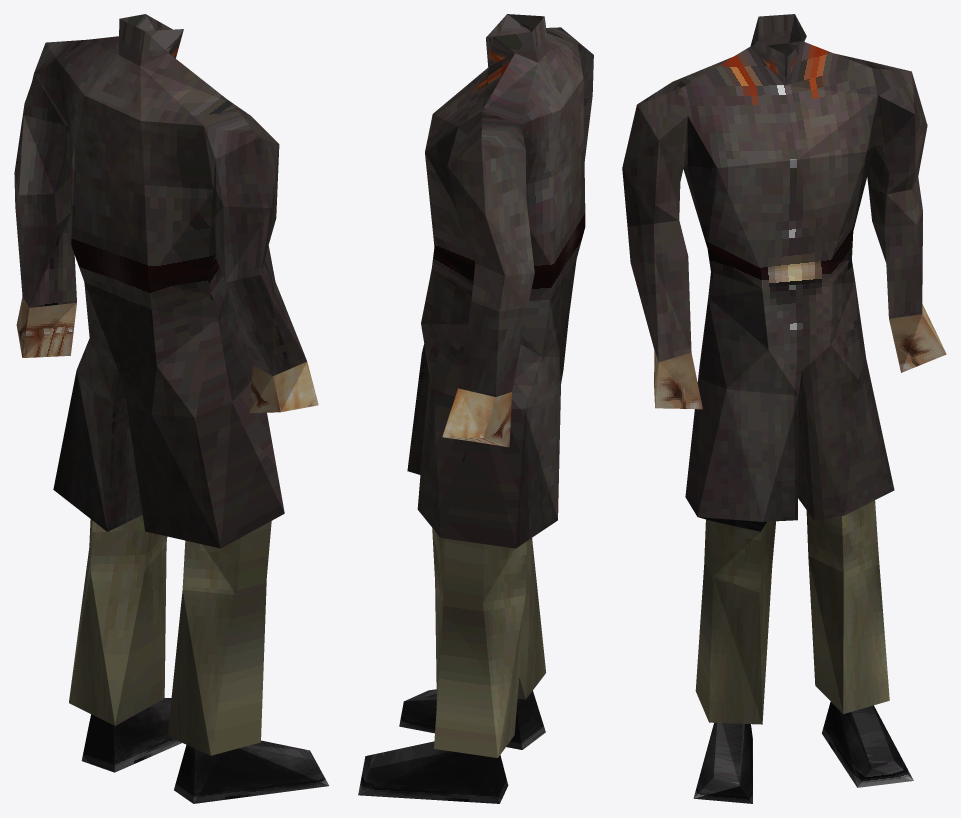
File: primary_077.glb
3 renders of one model, left to right at view 1: azimuth 30°, elevation 25°; view 2: azimuth 150°, elevation 25°; view 3: azimuth 270°, elevation 25°, orthographic. The views are drawn at different scales.
Parts seen in each view (by area): view 1: Object; view 2: Object; view 3: Object.
Part boxes in pixels (<box>): Object: <box>14,14,329,803</box>; Object: <box>358,14,593,803</box>; Object: <box>622,14,946,803</box>.
Size of the model in its own units: 0.5196 by 1.8 by 0.7353.
Materials: 77 (77 with a texture image).
